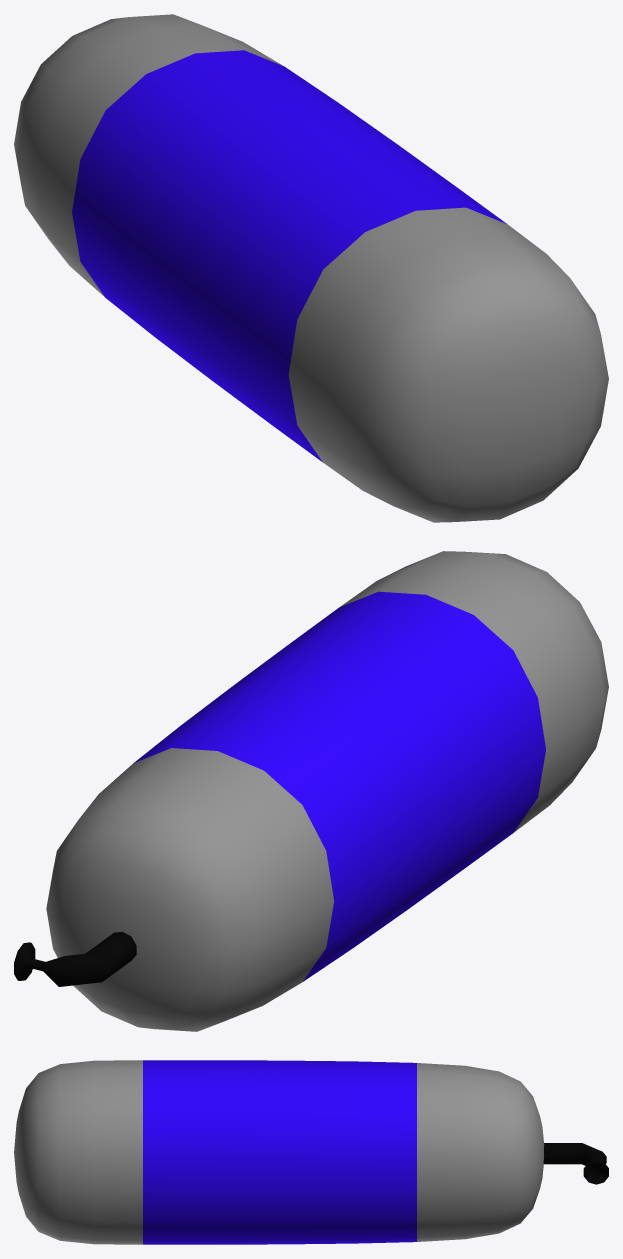
Rendered from item-tank-basic.glb.
3 views of the same model, one above another, from view 1: azimuth 30°, elevation 25°; view 2: azimuth 150°, elevation 25°; view 3: azimuth 270°, elevation 25° (orthographic). The views are drawn at different scales.
Bounding box in the file's own units: 16.65 × 16.65 × 54.36.
